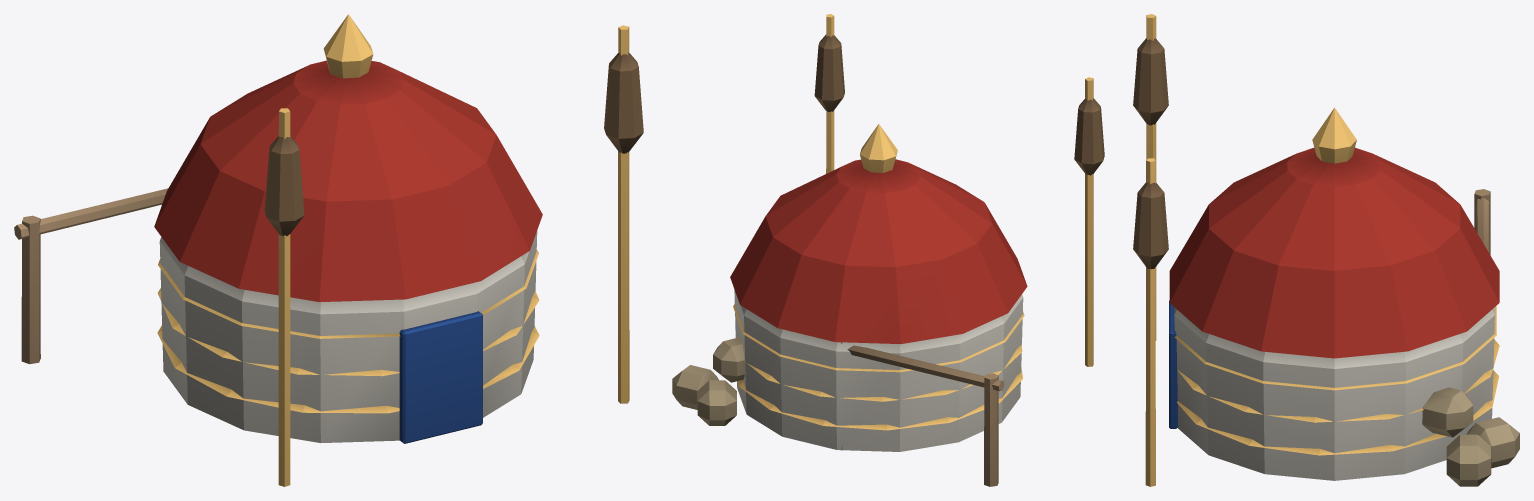
File: bld_yurta_stavka.glb
3 renders of one model, left to right at view 1: azimuth 30°, elevation 25°; view 2: azimuth 150°, elevation 25°; view 3: azimuth 270°, elevation 25°, orthographic. The views are drawn at different scales.
Parts seen in each view (by area): view 1: yurta_stavka; view 2: yurta_stavka; view 3: yurta_stavka.
Boxes of the visible parts, box(x1,y1,x2,y2) form: yurta_stavka: box(14, 14, 643, 486); yurta_stavka: box(672, 14, 1104, 486); yurta_stavka: box(1133, 14, 1519, 486).
Bounding box in the file's own units: 0.97 × 0.8 × 0.8637.
